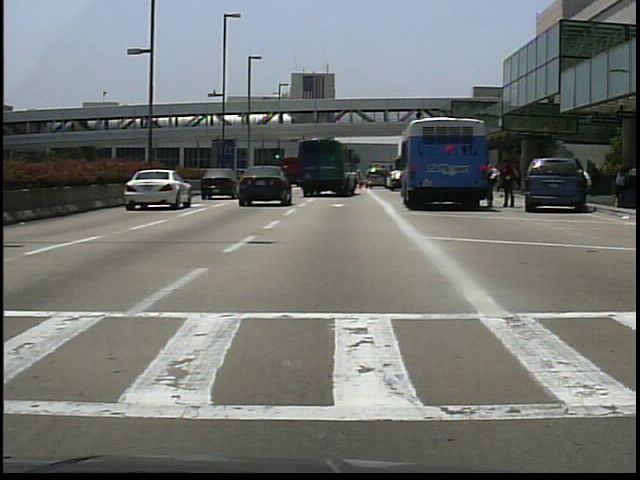person: (485, 157, 503, 209), (500, 159, 517, 208), (579, 165, 596, 204)
